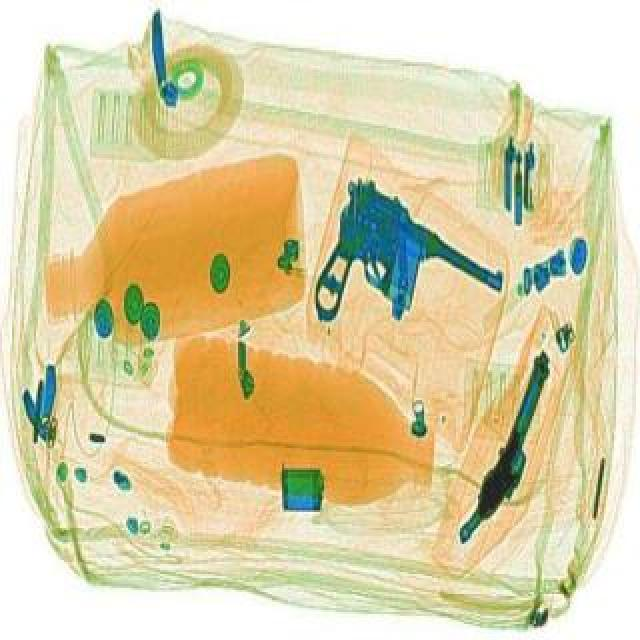gun: (268, 166, 516, 384), (452, 348, 568, 552)
